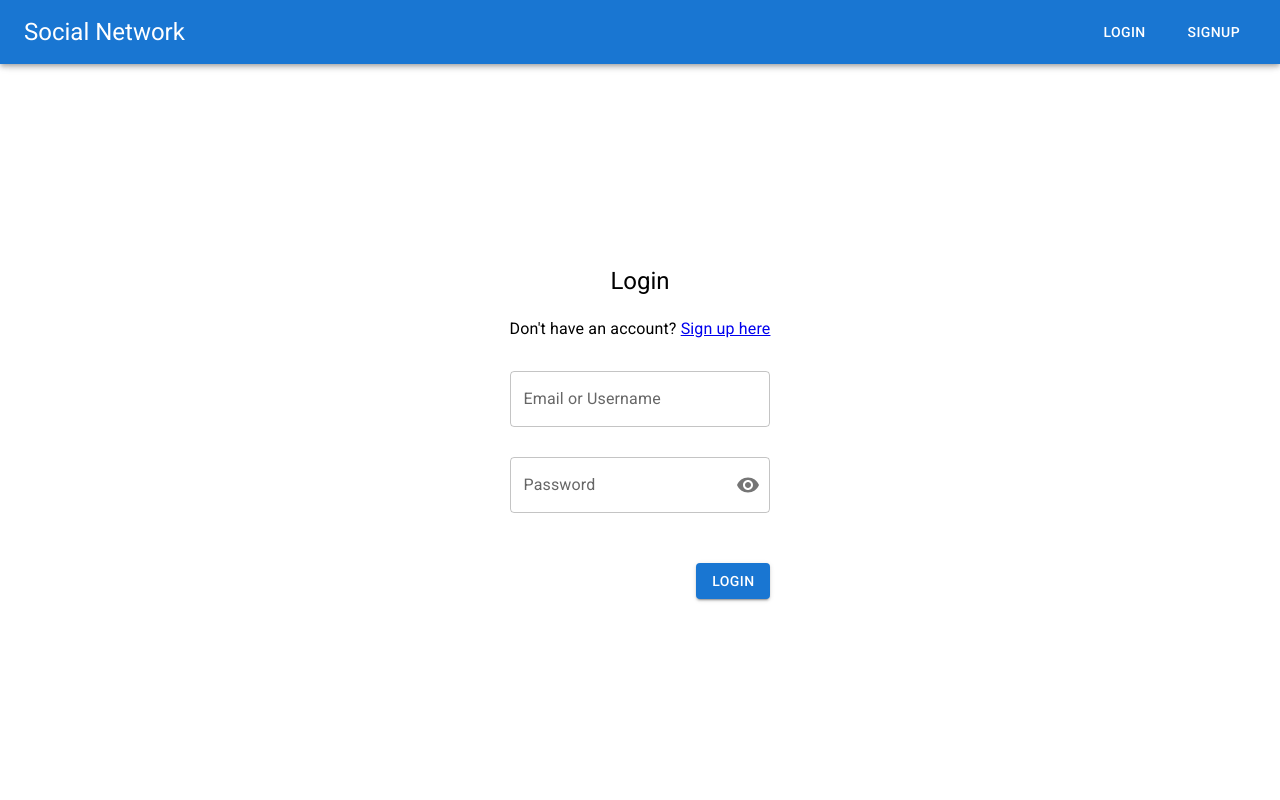
Scenario: login page › should show error if wrong email or password
Type "johndoe@gmail.com" into the field labelled "Email or Username". click: x=640, y=399
box: [510,371,770,427]
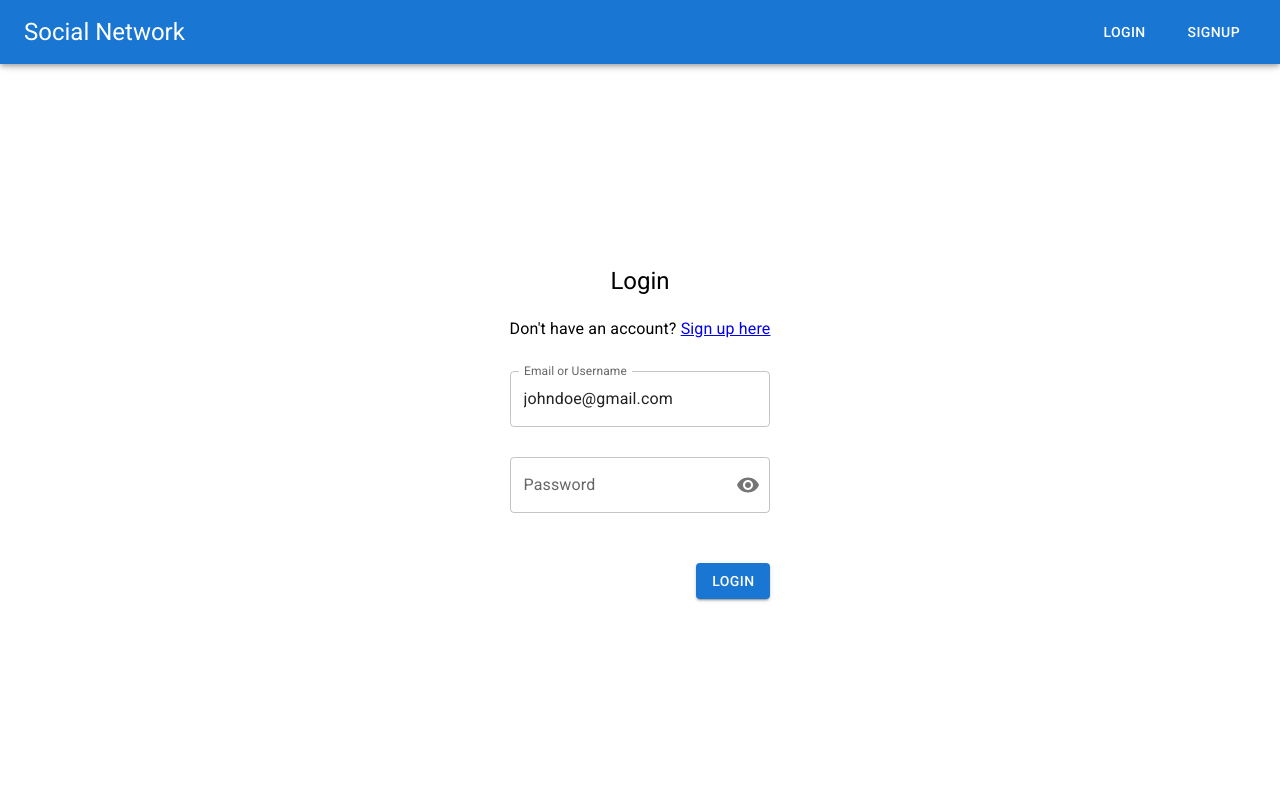
Type "123" into the password field labelled "Password". click: x=615, y=485
box: [510,457,720,513]
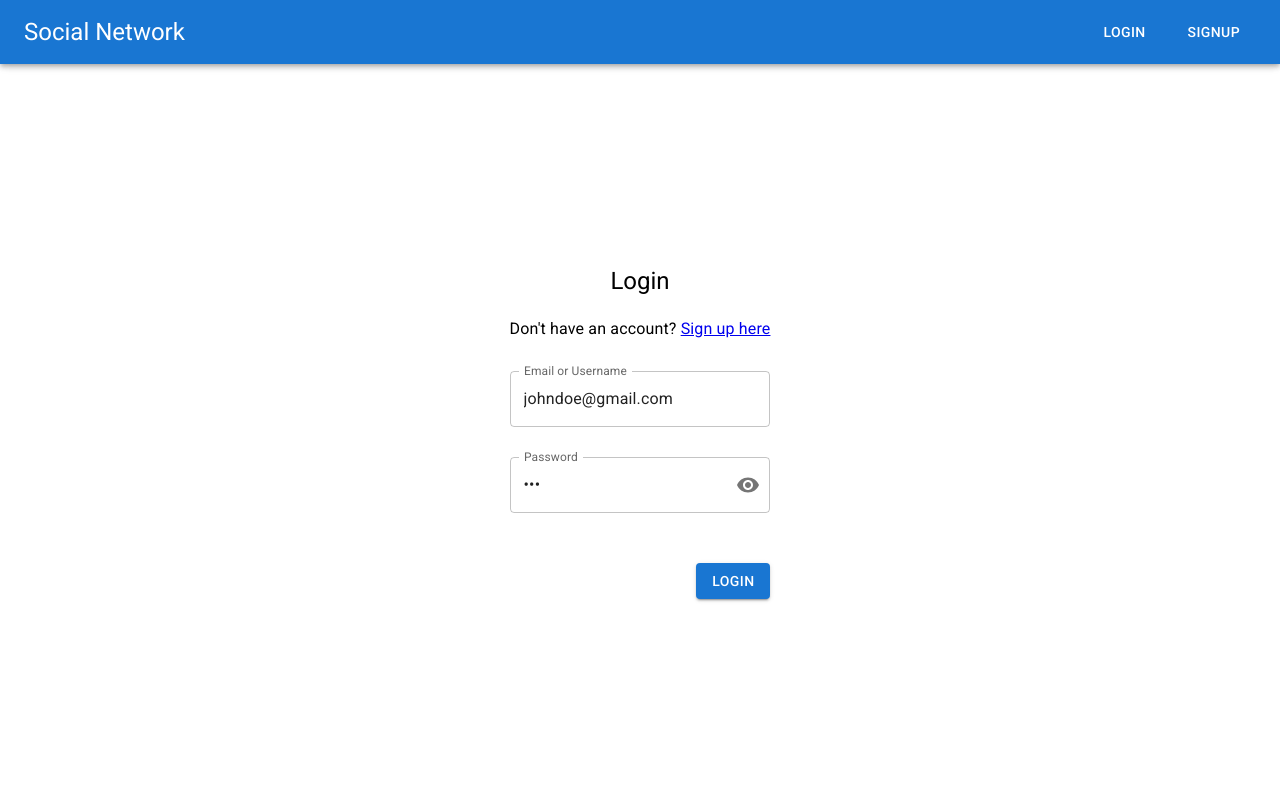
Click the button with test id "login-btn". click: x=733, y=581
box: [696,563,770,599]
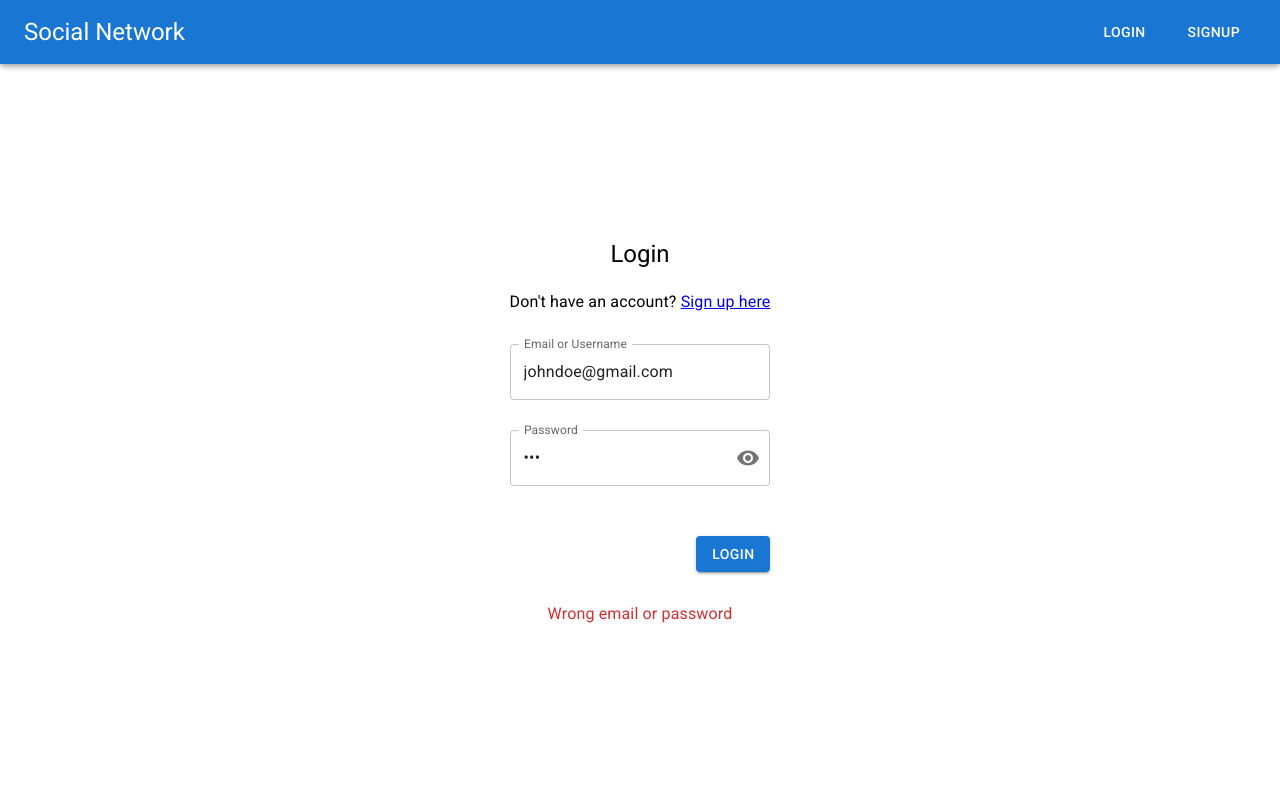
Expected: the text with test id "error" reads "Wrong email or password", [548,604,732,623]
